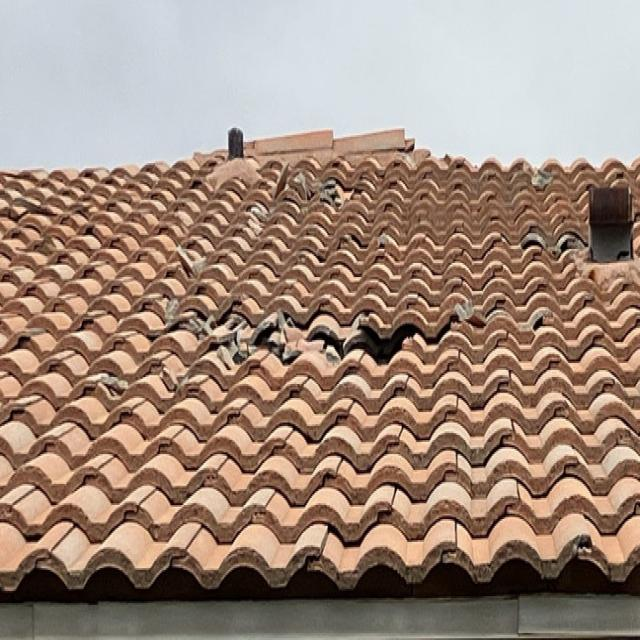damaged_roof: (172, 294, 480, 373)
